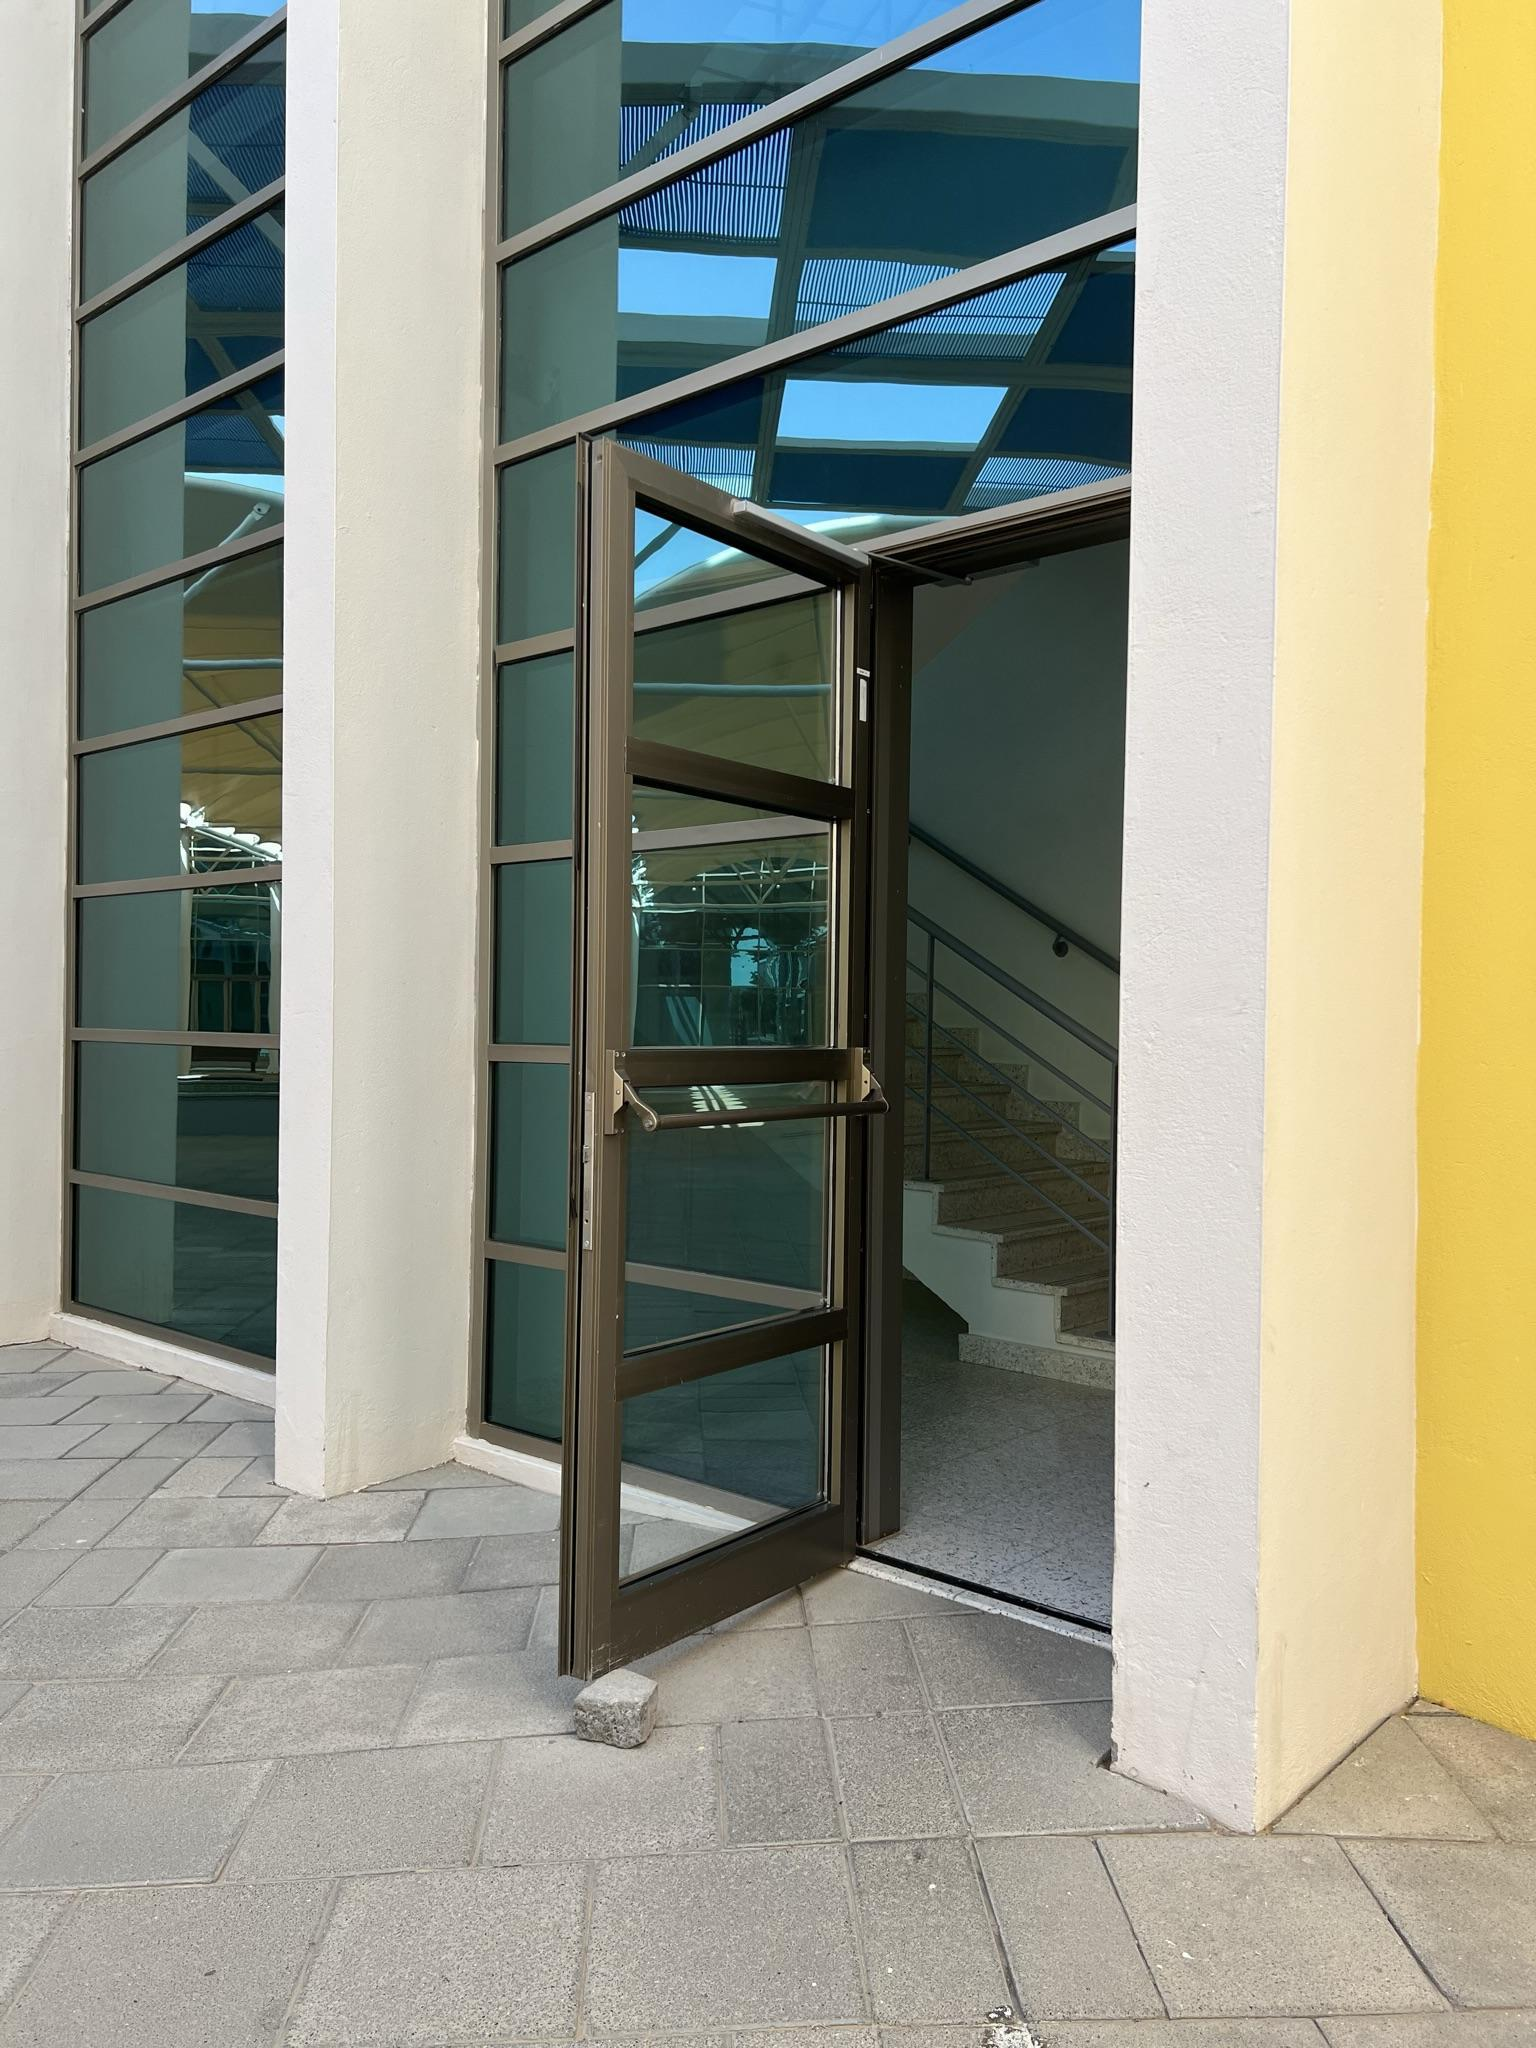door: (563, 452, 913, 1682)
